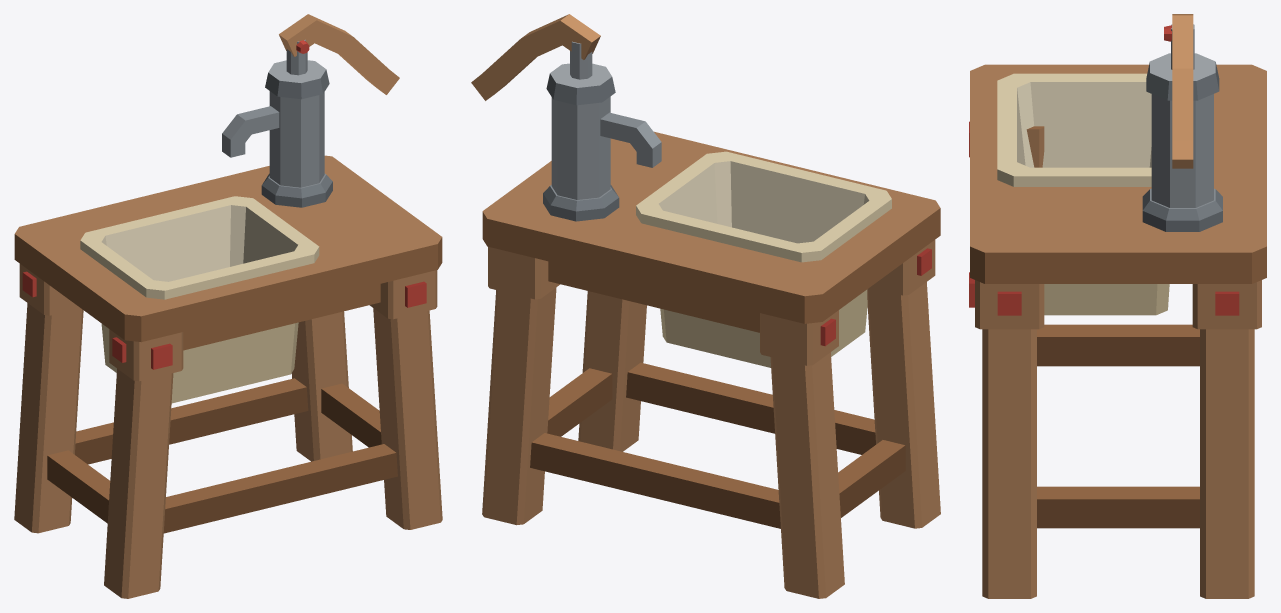
Rendered from FMS_Workshop_FUR_06.fbx.
3 views of the same model, side by side, from view 1: azimuth 30°, elevation 25°; view 2: azimuth 150°, elevation 25°; view 3: azimuth 270°, elevation 25° (orthographic). The views are drawn at different scales.
Visible parts, largest first — view 1: FMS_Workshop_FUR_06_Body, FMS_Workshop_FUR_06_Lever; view 2: FMS_Workshop_FUR_06_Body, FMS_Workshop_FUR_06_Lever; view 3: FMS_Workshop_FUR_06_Body, FMS_Workshop_FUR_06_Lever.
Part boxes in pixels (left/top/right/bottom): FMS_Workshop_FUR_06_Body: left=14, top=39, right=442, bottom=598; FMS_Workshop_FUR_06_Lever: left=279, top=14, right=399, bottom=94; FMS_Workshop_FUR_06_Body: left=482, top=41, right=940, bottom=598; FMS_Workshop_FUR_06_Lever: left=471, top=14, right=600, bottom=100; FMS_Workshop_FUR_06_Body: left=969, top=24, right=1266, bottom=598; FMS_Workshop_FUR_06_Lever: left=1172, top=14, right=1193, bottom=168.
Size of the model in its own units: 1 by 1.24 by 0.602.
Materials: 1 (1 with a texture image).
